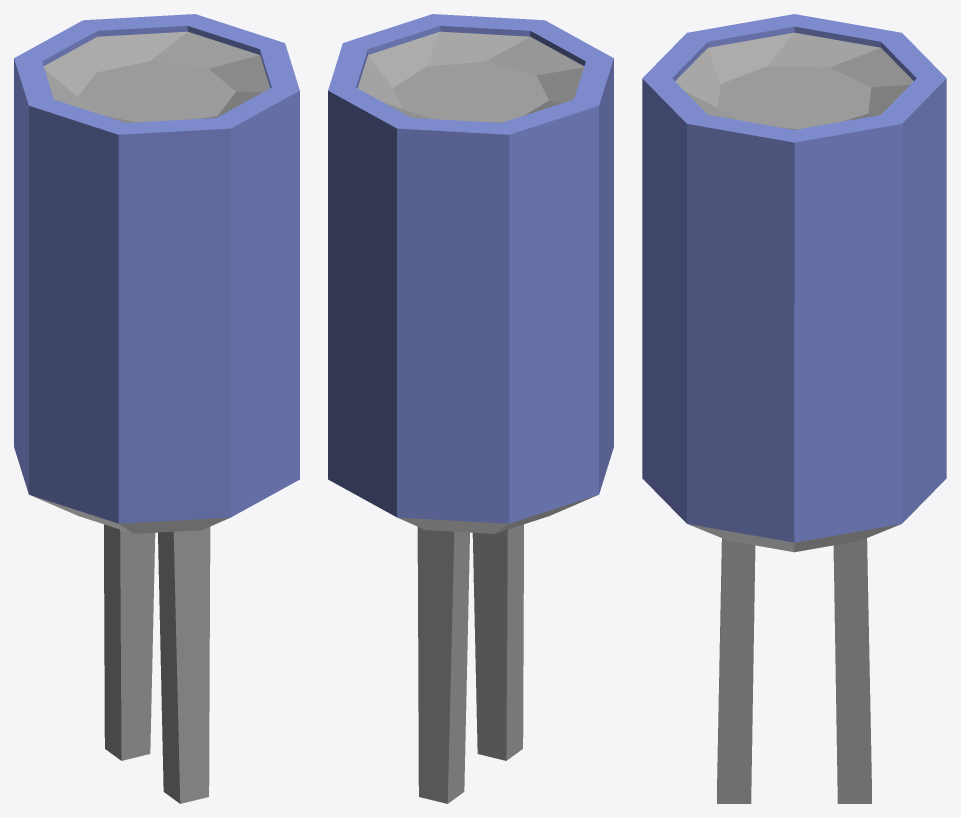
The model's file is Capacitor_Item.fbx.
3 renders of one model, left to right at view 1: azimuth 30°, elevation 25°; view 2: azimuth 150°, elevation 25°; view 3: azimuth 270°, elevation 25°, orthographic. The views are drawn at different scales.
Visible parts, largest first — view 1: Cylinder; view 2: Cylinder; view 3: Cylinder.
Part boxes in pixels (x1,y1,x2,y2): Cylinder: (14,14,299,803); Cylinder: (328,14,613,803); Cylinder: (642,14,946,803).
Size of the model in its own units: 41.38 by 108 by 41.38.
